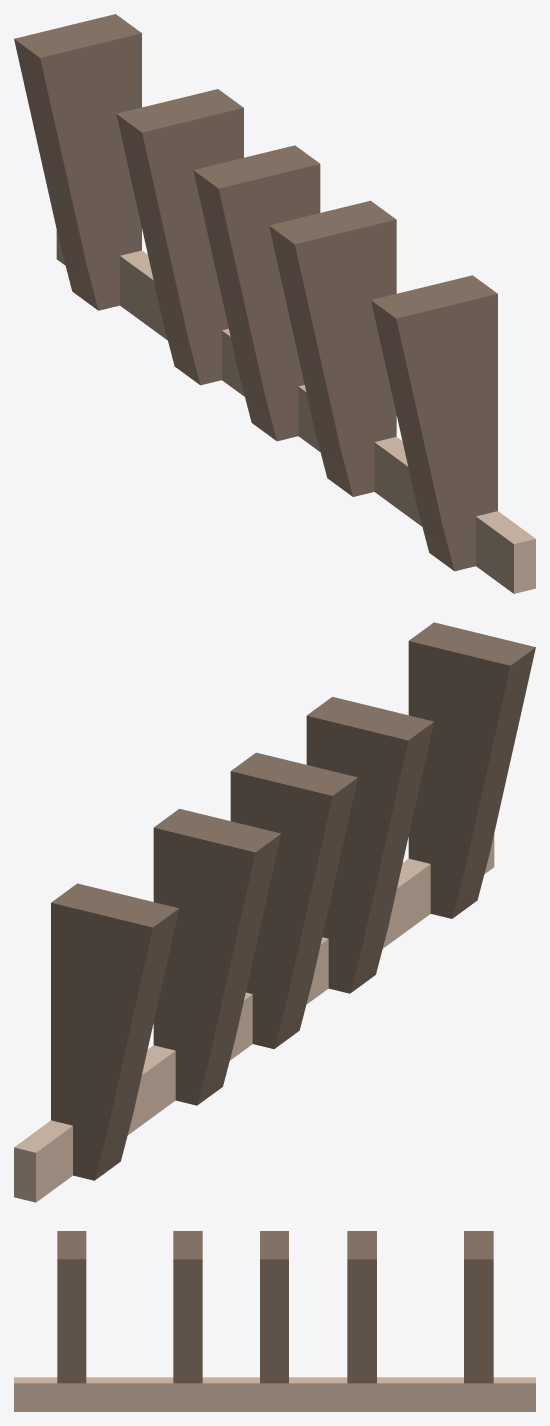
Rendered from F11_WindowPillars.fbx.
The picture shows the model from 3 angles, top to bottom: view 1: azimuth 30°, elevation 25°; view 2: azimuth 150°, elevation 25°; view 3: azimuth 270°, elevation 25°; orthographic projection. The views are drawn at different scales.
Visible parts, largest first — view 1: pCube1; view 2: pCube1; view 3: pCube1.
Part boxes in pixels (<box>): pCube1: <box>14,14,535,593</box>; pCube1: <box>14,622,535,1202</box>; pCube1: <box>14,1231,535,1411</box>.
Size of the model in its own units: 4.61 by 11.57 by 35.91.
